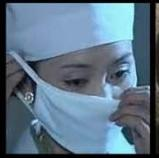WRONG: (43, 54, 139, 152)
